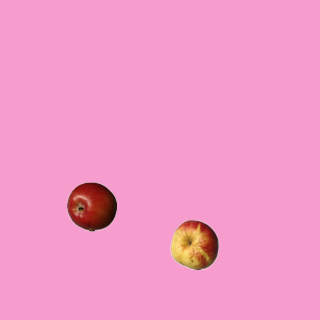Apple Braeburn: (66, 181, 116, 231)
Apple Red Yellow 1: (169, 219, 219, 269)
